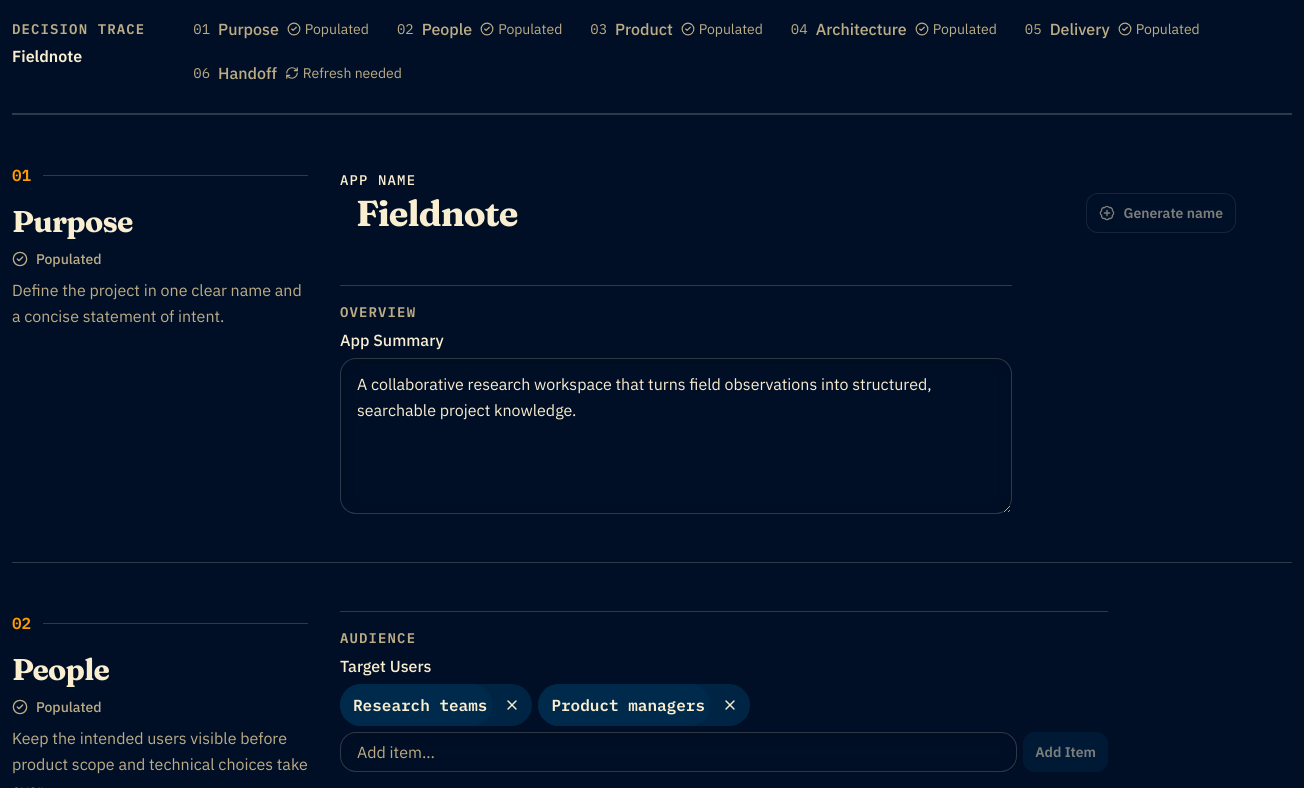
Test case: BriefWorkspace › requires values before enabling explicit add actions
Check: the button "Add Item" is disabled, box left=1023, top=732, right=1108, bottom=772
Type "Design leads" into the field labelled "Add item" at (679, 752), box left=340, top=732, right=1017, bottom=772
(page scrolled)
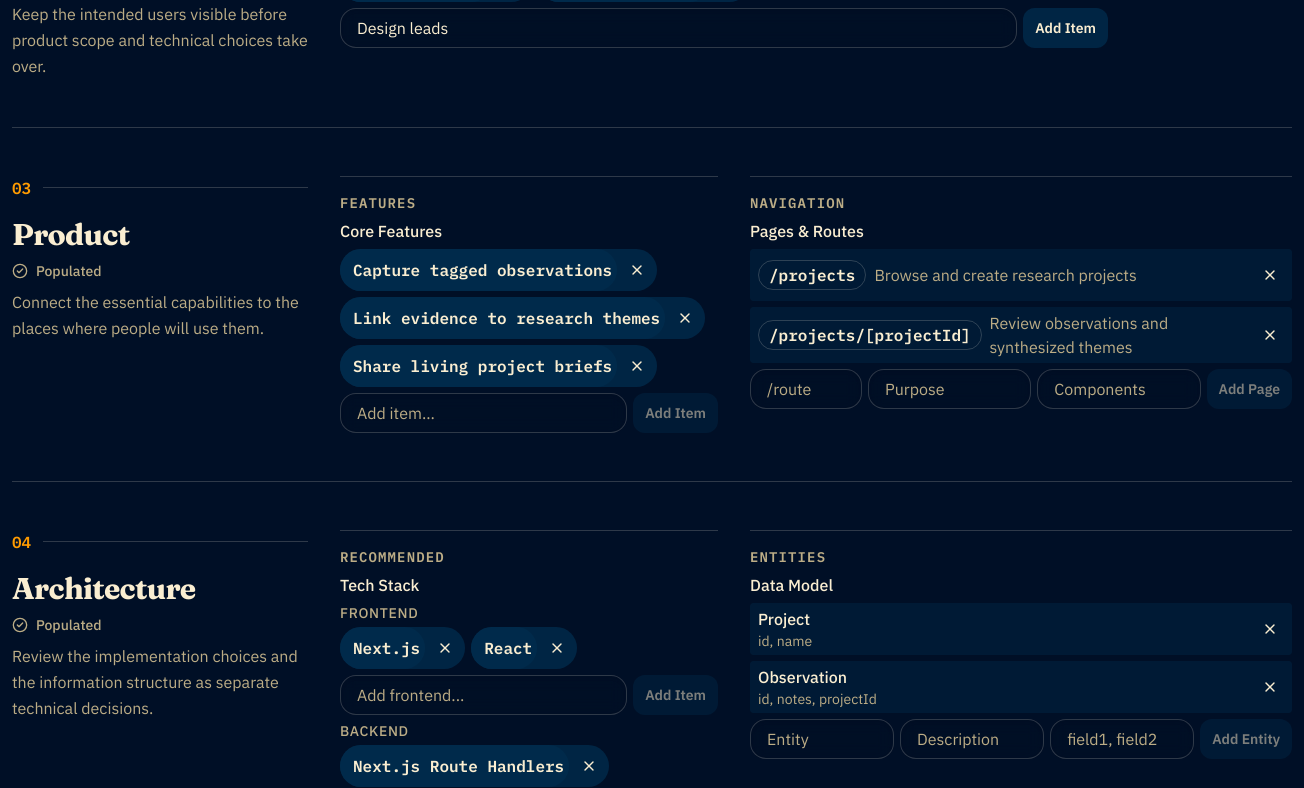
Type "/reports" into the field named "Page route" at (806, 388), box left=750, top=368, right=862, bottom=408
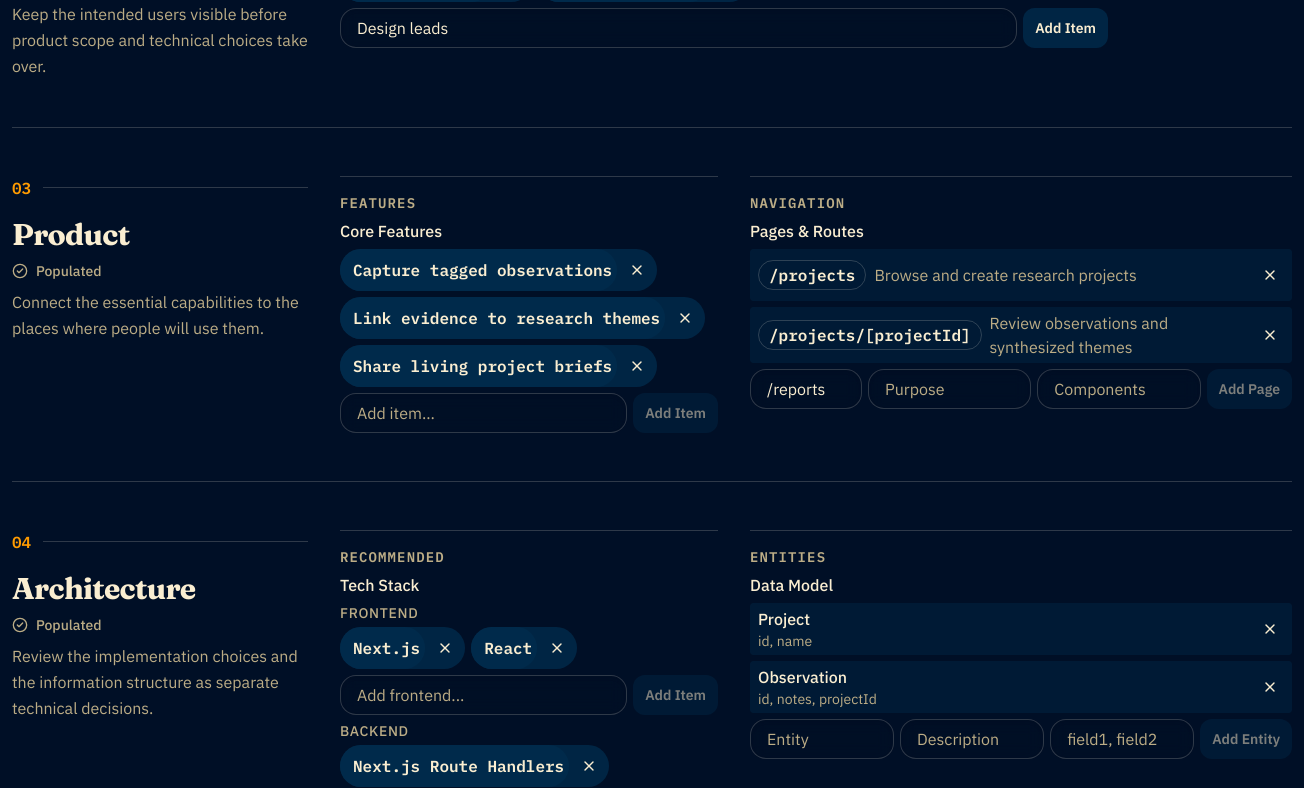
Type "Review reports" into the field named "Page purpose" at (950, 388), box left=868, top=368, right=1031, bottom=408
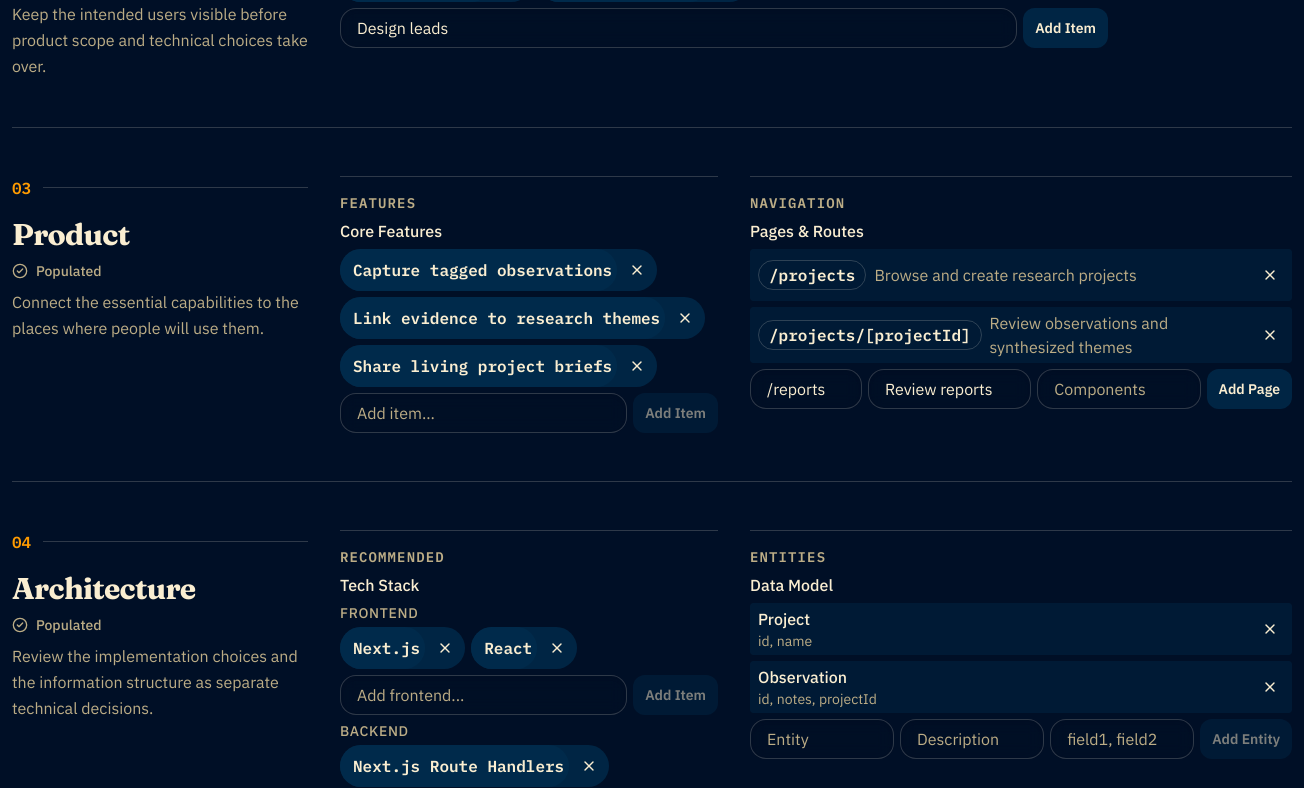
Type "Report" into the field named "Entity name" at (822, 738), box left=750, top=718, right=894, bottom=758
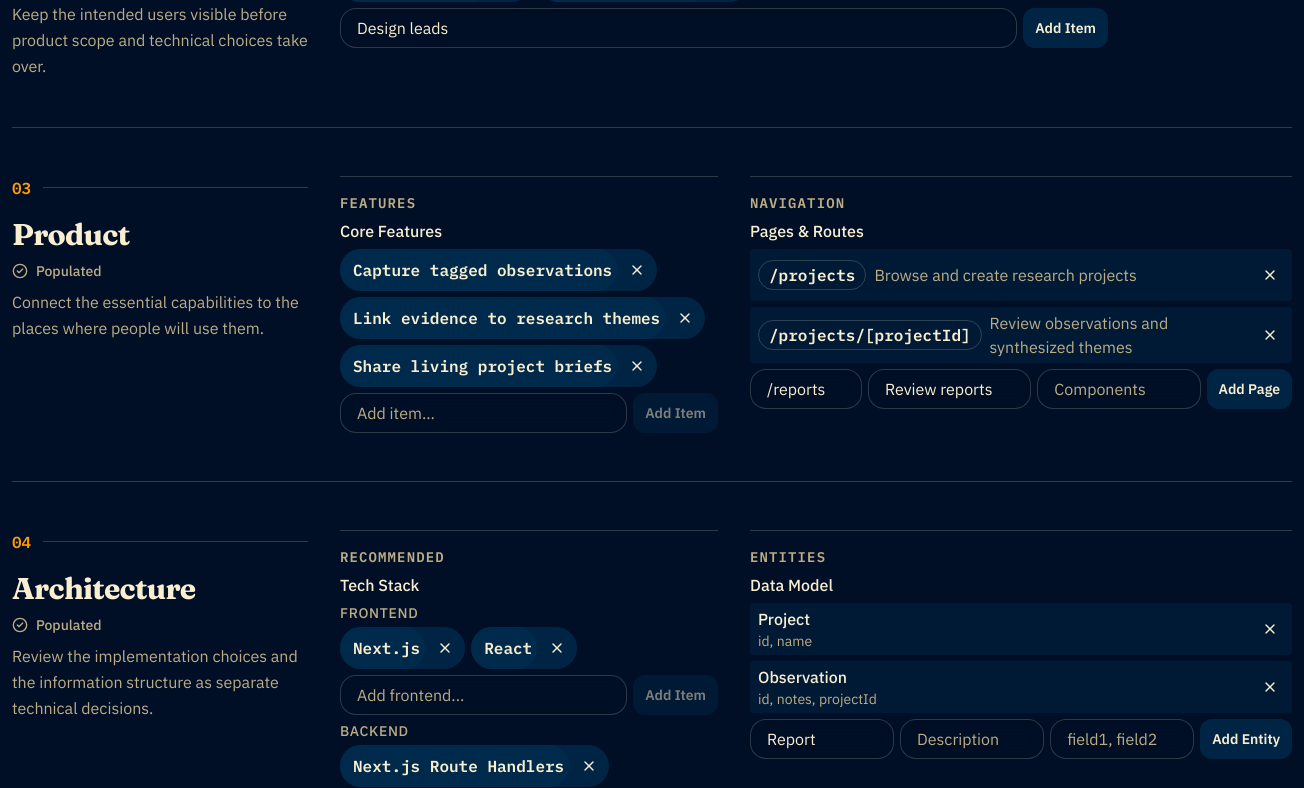
Check: the 1st button "Add Item" is enabled, box left=1023, top=8, right=1108, bottom=48
Check: the button "Add Page" is enabled, box left=1206, top=368, right=1292, bottom=408
Check: the button "Add Entity" is enabled, box left=1200, top=718, right=1292, bottom=758
